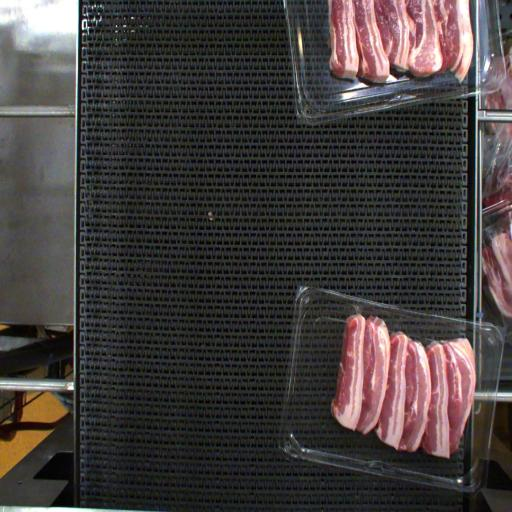packaging-error: (350, 302, 363, 314)
